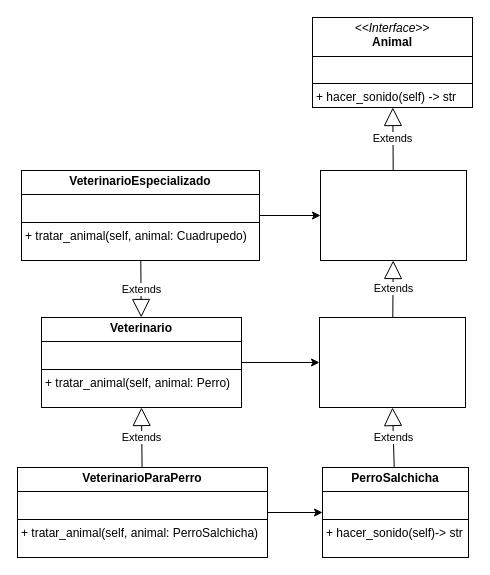
Some shapes in this 490 by 575 pixel diagram are drawn without their labels. Here are the shapes that lost their labels. From the top down, the centre of each, then its label:
At (x=393, y=215): "Cuadrupedo + hacer_sonido(self)-> str".
At (x=392, y=362): "Perro + hacer_sonido(self)-> str".
